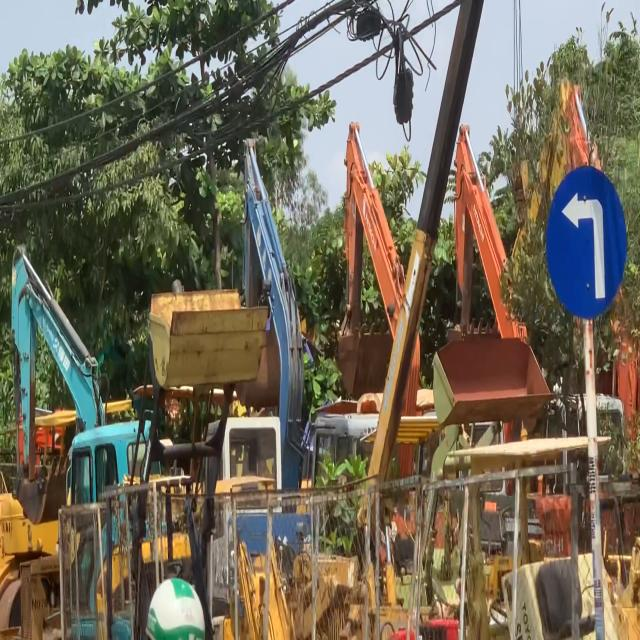Re trai: (543, 162, 630, 323)
